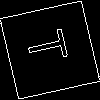T: (25, 25, 78, 65)
